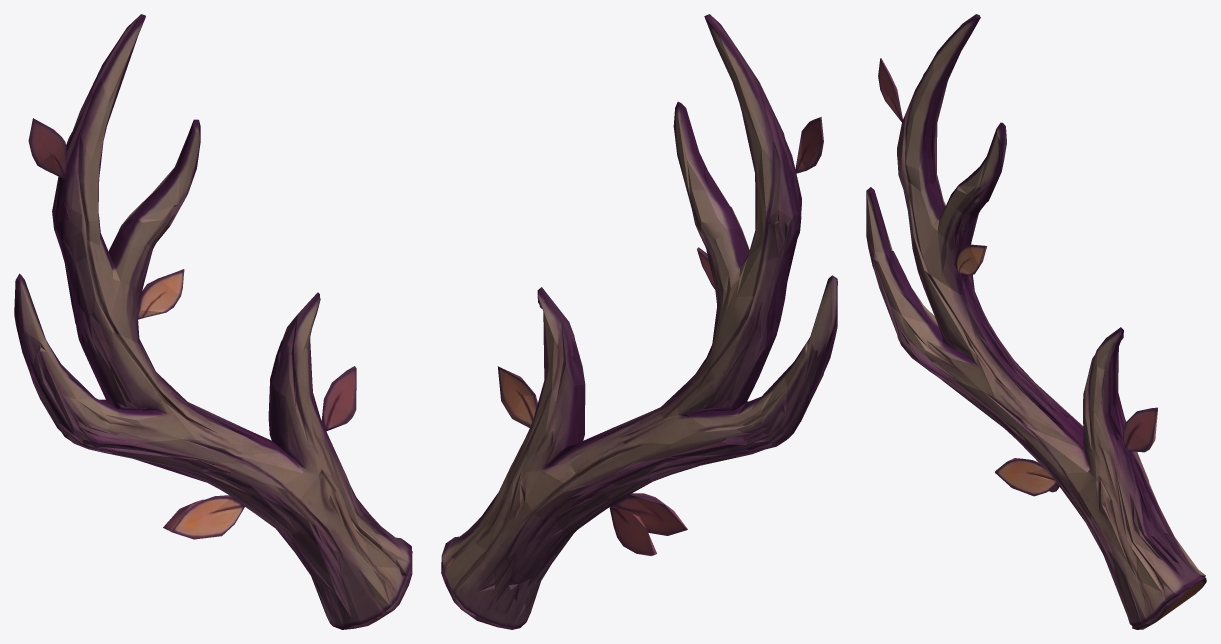
File: fennal-bois-3.glb
3 renders of one model, left to right at view 1: azimuth 30°, elevation 25°; view 2: azimuth 150°, elevation 25°; view 3: azimuth 330°, elevation 25°, orthographic. The views are drawn at different scales.
Visible parts, largest first — view 1: geometry_0; view 2: geometry_0; view 3: geometry_0.
Part boxes in pixels (x1,y1,x2,y2): geometry_0: [14, 14, 412, 629]; geometry_0: [441, 14, 837, 629]; geometry_0: [866, 14, 1206, 629].
Size of the model in its own units: 1.18 by 1.9 by 0.2398.
1 material, 1 textured.
